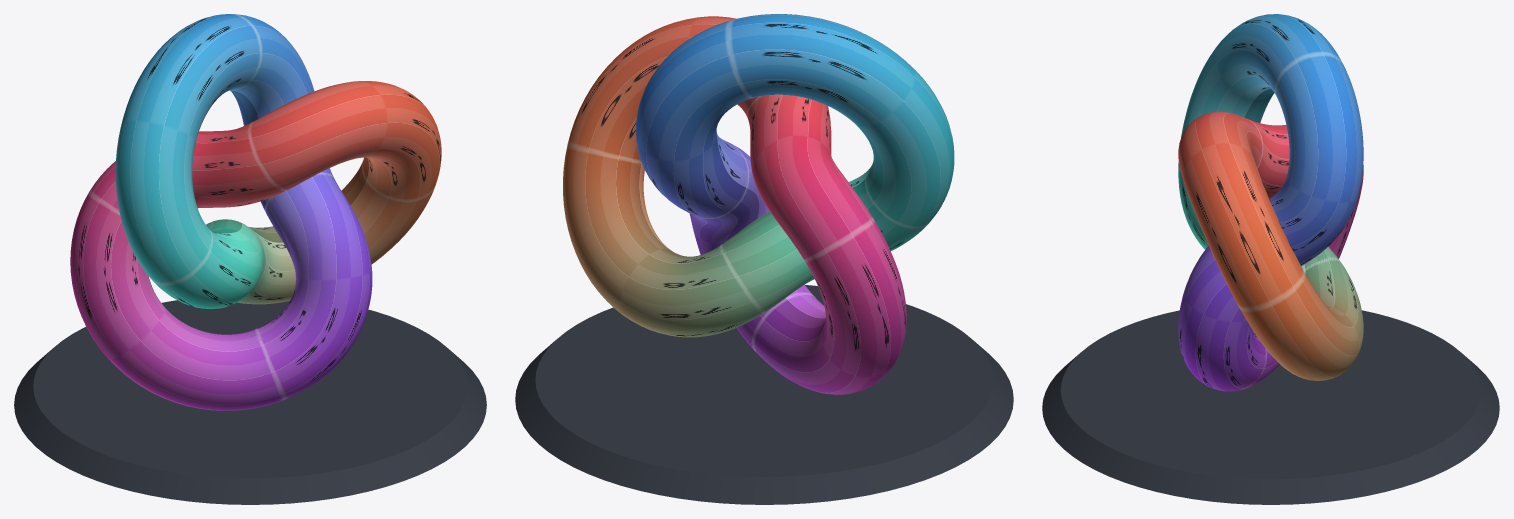
File: demo.obj
3 views of the same model, side by side, from view 1: azimuth 30°, elevation 25°; view 2: azimuth 150°, elevation 25°; view 3: azimuth 270°, elevation 25° (orthographic). The views are drawn at different scales.
Visible parts, largest first — view 1: Узел, Подставка; view 2: Узел, Подставка; view 3: Подставка, Узел.
Part boxes in pixels (x1=…): Узел: x1=70, y1=14, x2=441, y2=410; Подставка: x1=14, y1=300, x2=486, y2=504; Узел: x1=563, y1=14, x2=954, y2=394; Подставка: x1=515, y1=285, x2=1013, y2=504; Подставка: x1=1042, y1=310, x2=1499, y2=504; Узел: x1=1178, y1=14, x2=1363, y2=391.
Size of the model in its own units: 3.7 by 3.27 by 3.7.
2 materials, 1 textured.
